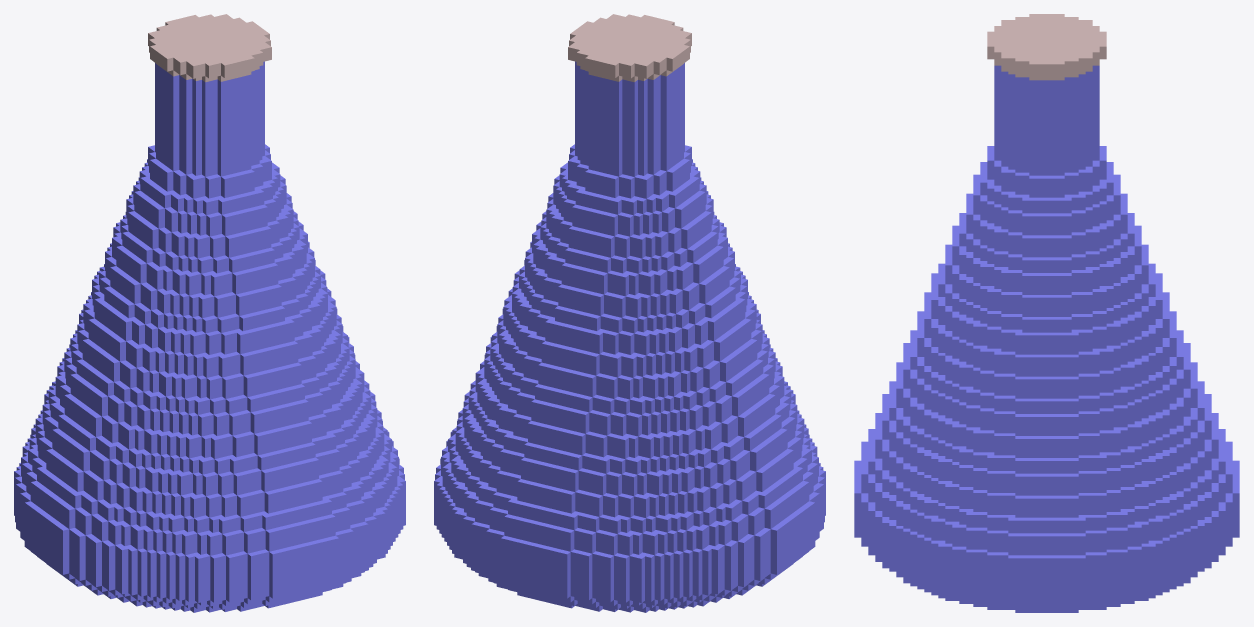
Rendered from Flask3-1-1.fbx.
The picture shows the model from 3 angles, left to right: view 1: azimuth 30°, elevation 25°; view 2: azimuth 150°, elevation 25°; view 3: azimuth 270°, elevation 25°; orthographic projection.
Parts seen in each view (by area): view 1: Flask3-1-1.001, Flask3-1-1; view 2: Flask3-1-1.001, Flask3-1-1; view 3: Flask3-1-1.001, Flask3-1-1.
Boxes of the visible parts, left/top/right/bottom form: Flask3-1-1.001: left=14, top=61, right=405, bottom=612; Flask3-1-1: left=148, top=14, right=271, bottom=82; Flask3-1-1.001: left=434, top=61, right=825, bottom=612; Flask3-1-1: left=568, top=14, right=691, bottom=82; Flask3-1-1.001: left=854, top=65, right=1239, bottom=612; Flask3-1-1: left=987, top=14, right=1106, bottom=80.
Size of the model in its own units: 5.5 by 7.9 by 5.5.
